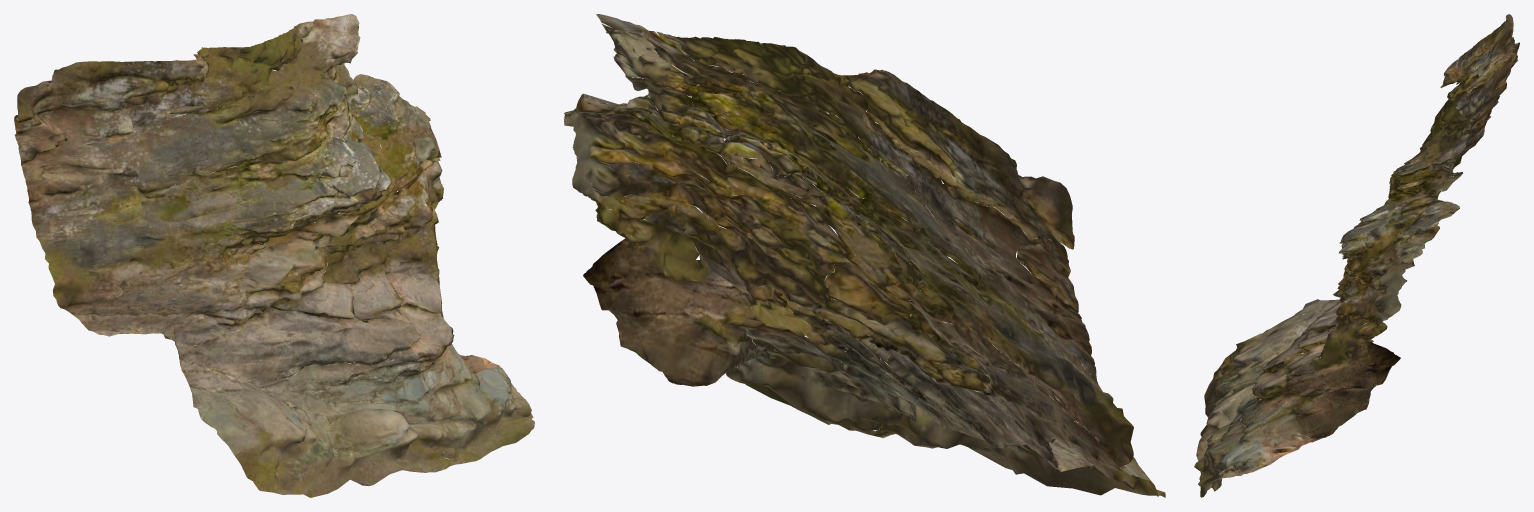
File: rock_face_02.glb
3 views of the same model, side by side, from view 1: azimuth 30°, elevation 25°; view 2: azimuth 150°, elevation 25°; view 3: azimuth 270°, elevation 25° (orthographic). The views are drawn at different scales.
Visible parts, largest first — view 1: rock_face_02; view 2: rock_face_02; view 3: rock_face_02.
Part boxes in pixels (x1,y1,x2,y2): rock_face_02: [14, 14, 534, 497]; rock_face_02: [564, 14, 1165, 497]; rock_face_02: [1194, 14, 1519, 497].
Size of the model in its own units: 2.71 by 2.47 by 2.13.
Materials: 1 (1 with a texture image).
